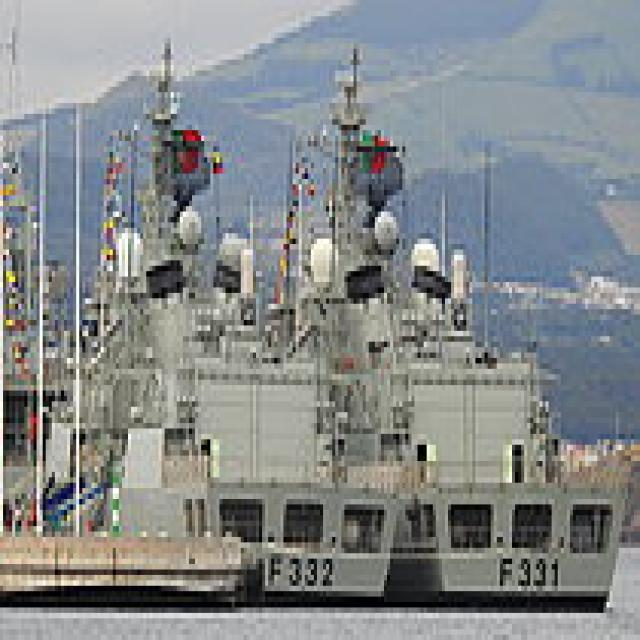Warship: (86, 32, 397, 596), (317, 38, 625, 607)
